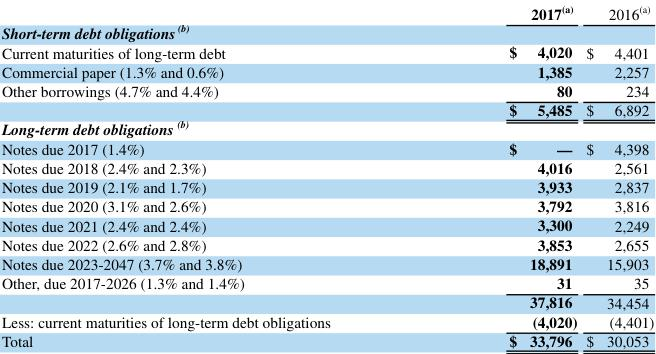table: (0, 1, 653, 351)
table column: (0, 1, 419, 351), (419, 1, 581, 351), (581, 1, 653, 351)
table column header: (0, 1, 653, 22)
table projected row header: (0, 22, 653, 42), (0, 118, 653, 138)
table row: (0, 1, 653, 22), (0, 330, 653, 351), (0, 22, 653, 42), (0, 80, 653, 100), (0, 118, 653, 138), (0, 176, 653, 196), (0, 253, 653, 273), (0, 42, 653, 61), (0, 61, 653, 80), (0, 138, 653, 157), (0, 157, 653, 176), (0, 196, 653, 215), (0, 215, 653, 234), (0, 234, 653, 253), (0, 273, 653, 292), (0, 292, 653, 311), (0, 311, 653, 330), (0, 100, 653, 118)
